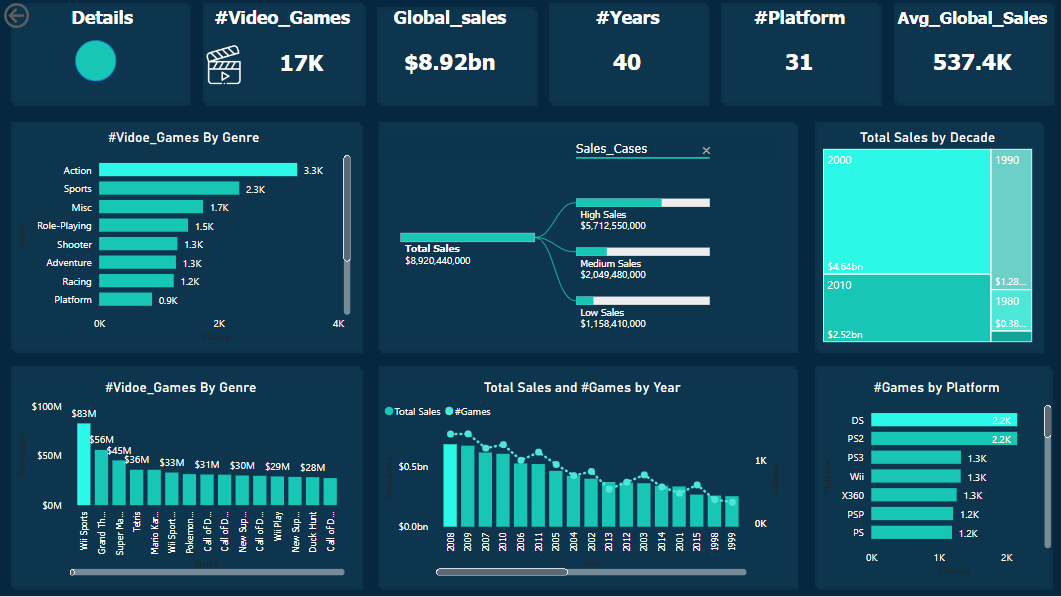

This screenshot's page, from the dashboard's own definition file:
{"tool":"powerbi","page":{"name":"Home ","canvas":[1280,720],"ordinal":2},"visuals":[{"type":"shape","box":[8.5,0,222.5,130.4],"z":0},{"type":"shape","box":[90.7,50,49.6,49.6],"z":1000},{"type":"shape","box":[239.5,0,202.7,130.4],"z":2000},{"type":"shape","box":[450,4.3,199.8,126.1],"z":3000},{"type":"shape","box":[657.6,0,199.8,130.4],"z":4000},{"type":"shape","box":[864.6,0,199.8,130.4],"z":5000},{"type":"shape","box":[1072.9,0,199.8,130.4],"z":6000},{"type":"image","box":[239.5,51,63.8,56.7],"z":7000},{"type":"card","title":"#Years","fields":{"Values":["Measures (3).#Years"]},"box":[657.6,9.9,198.4,109.1],"z":8000},{"type":"card","title":"#Platform","fields":{"Values":["Measures (3).#platform"]},"box":[864.6,9.9,198.4,109.1],"z":9000},{"type":"card","title":"Avg_Global_Sales","fields":{"Values":["Measures (3).avg_of_global_sales"]},"box":[1072.9,9.9,198.4,109.1],"z":10000},{"type":"textbox","box":[239.5,4,199.8,35.4],"z":11000},{"type":"card","fields":{"Values":["Measures (3).#Games"]},"box":[316.1,43.9,95,69.4],"z":12000},{"type":"card","title":"Global_sales","fields":{"Values":["Measures (3).Total Sales"]},"box":[442.2,9.9,199.8,109.1],"z":13000},{"type":"shape","box":[8.5,143.1,430.9,284.9],"z":14000},{"type":"barChart","title":"#Vidoe_Games  By Genre","fields":{"Category":["Video Games.Genre"],"Y":["Measures (3).#Games"]},"box":[15.6,157.3,412.4,262.2],"z":15000},{"type":"shape","box":[8.5,438,430.9,276.4],"z":16000},{"type":"columnChart","title":"#Vidoe_Games  By Genre","fields":{"Y":["Measures (3).Total Sales"],"Category":["Video Games.Name"]},"box":[15.6,457.8,405.4,242.4],"z":17000},{"type":"shape","box":[450.7,143.1,513.1,284.9],"z":18000},{"type":"shape","box":[978,143.1,283.5,284.9],"z":19000},{"type":"treemap","fields":{"Group":["Video Games.Decade"],"Values":["Measures (3).Total Sales"]},"box":[987.9,157.3,262.2,262.2],"z":20000},{"type":"shape","box":[450.7,438,513.1,276.4],"z":21000},{"type":"lineStackedColumnComboChart","fields":{"Category":["Video Games.Year"],"Y":["Measures (3).Total Sales"],"Y2":["Measures (3).#Games"]},"box":[457.8,457.8,487.6,242.4],"z":22000},{"type":"shape","box":[978,438,293.4,276.4],"z":23000},{"type":"clusteredBarChart","fields":{"Category":["Video Games.Platform"],"Y":["Measures (3).#Games"]},"box":[987.9,457.8,284.9,242.4],"z":24000},{"type":"decompositionTreeVisual","fields":{"Analyze":["Measures (3).Total Sales"],"ExplainBy":["Video Games.Sales_Cases"]},"box":[453.5,155.9,491.8,263.6],"z":25000},{"type":"actionButton","box":[0,0,100,40],"z":26000},{"type":"actionButton","box":[15.1,0,215,43.7],"z":27000}]}

Visuals, with their boxes in screenshot pixels (x1, y1, x2, y2), scaled from the page's 1280x720 canvas onto the 1061x597 screenshot:
shape: 7:0:191:108
shape: 75:41:116:83
shape: 199:0:367:108
shape: 373:4:539:108
shape: 545:0:711:108
shape: 717:0:882:108
shape: 889:0:1055:108
image: 199:42:251:89
"#Years" card: 545:8:710:99
"#Platform" card: 717:8:881:99
"Avg_Global_Sales" card: 889:8:1054:99
textbox: 199:3:364:33
card - Measures (3).#Games: 262:36:341:94
"Global_sales" card: 367:8:532:99
shape: 7:119:364:355
"#Vidoe_Games  By Genre" barChart: 13:130:355:348
shape: 7:363:364:592
"#Vidoe_Games  By Genre" columnChart: 13:380:349:581
shape: 374:119:799:355
shape: 811:119:1046:355
treemap - Video Games.Decade x Measures (3).Total Sales: 819:130:1036:348
shape: 374:363:799:592
lineStackedColumnComboChart - Video Games.Year x Measures (3).Total Sales: 379:380:784:581
shape: 811:363:1054:592
clusteredBarChart - Video Games.Platform x Measures (3).#Games: 819:380:1055:581
decompositionTreeVisual - Measures (3).Total Sales x Video Games.Sales_Cases: 376:129:784:348
actionButton: 0:0:83:33
actionButton: 13:0:191:36
